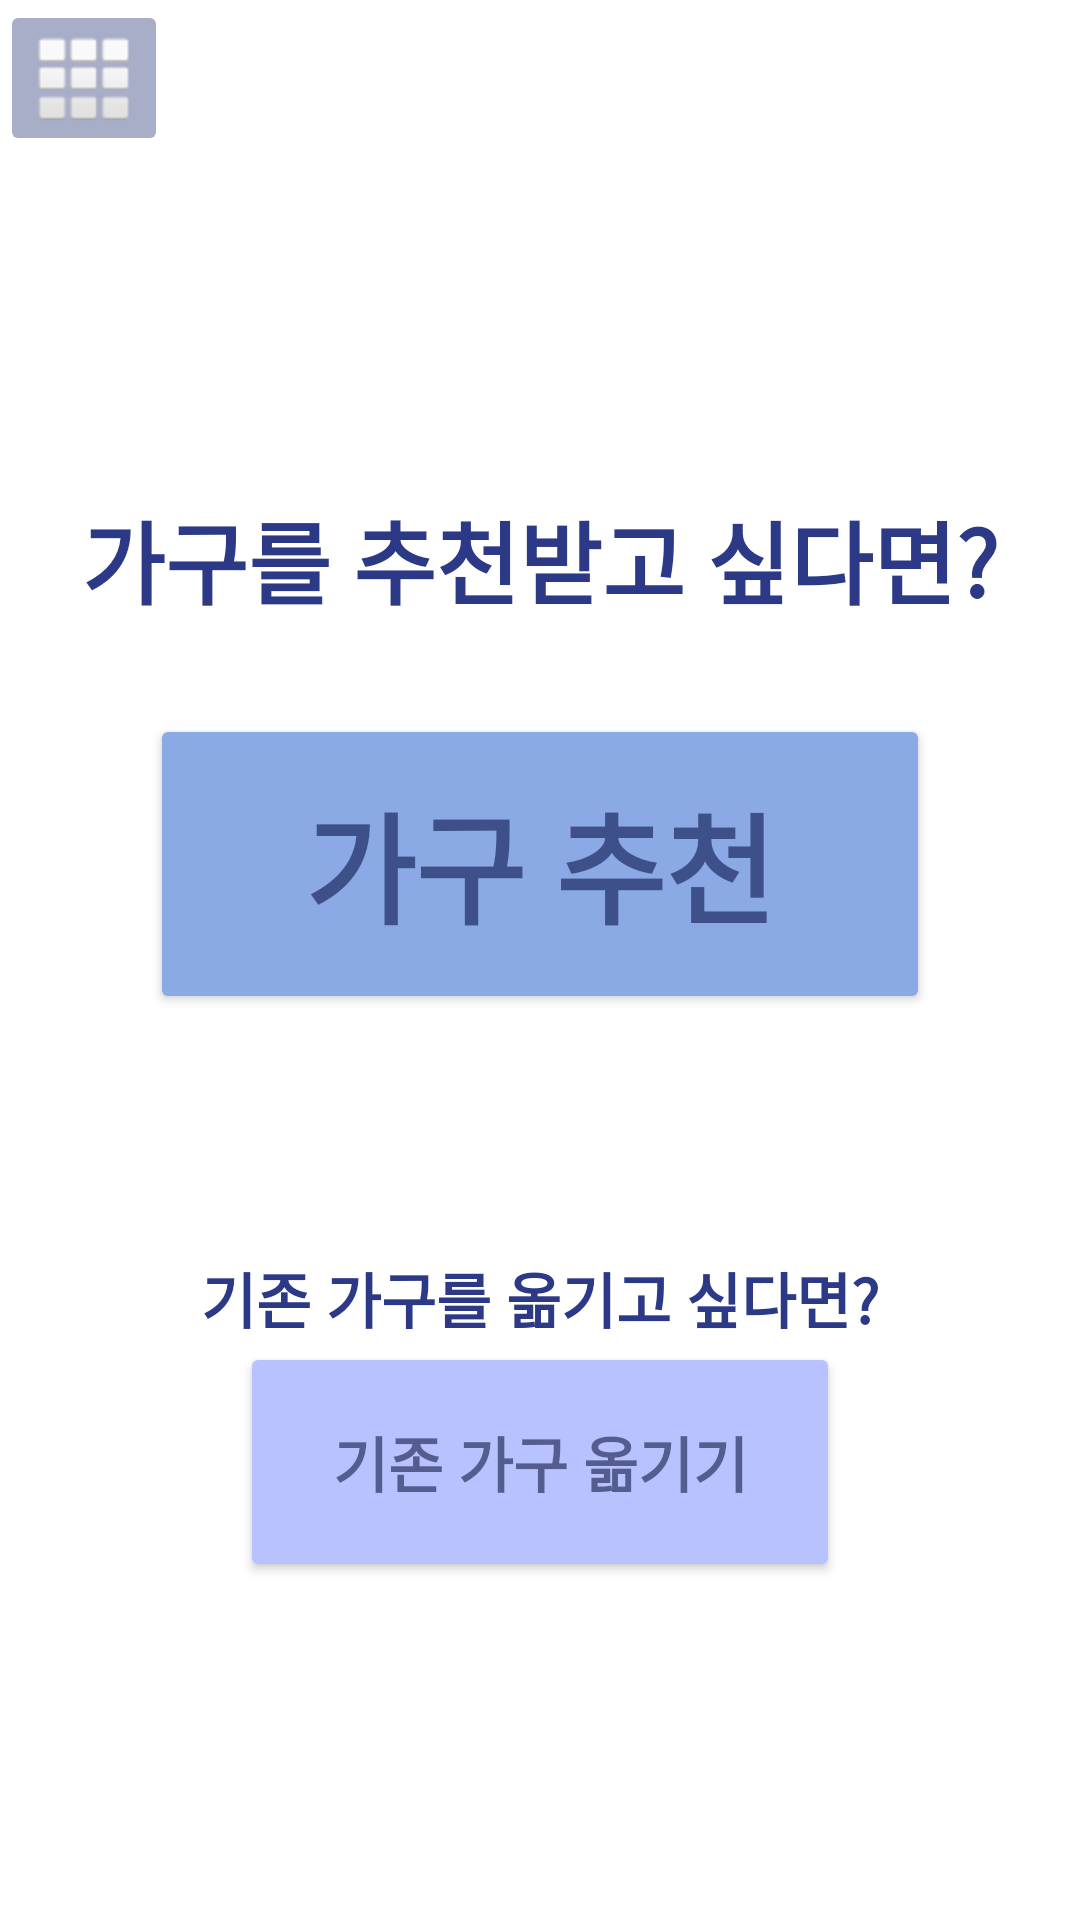

Where to tap for icons on this 1080×1920 app screen, as point (x, y):
dialer: point (84, 78)
